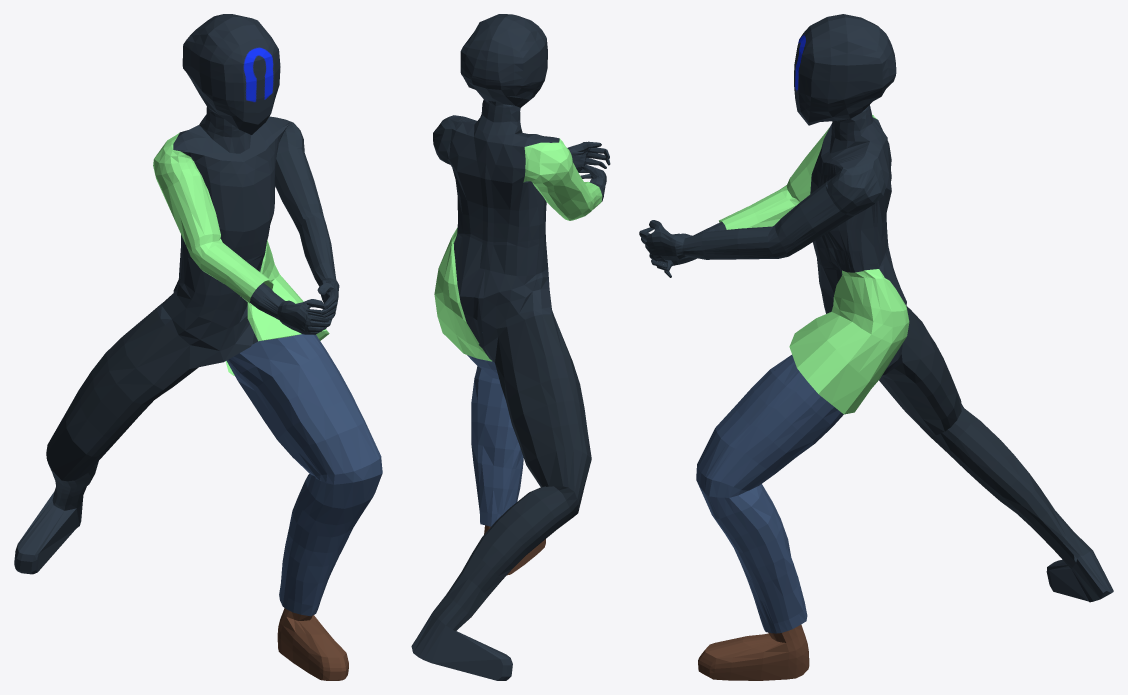
File: Mar_WB_000011.obj
The picture shows the model from 3 angles, left to right: view 1: azimuth 30°, elevation 25°; view 2: azimuth 150°, elevation 25°; view 3: azimuth 270°, elevation 25°; orthographic projection. The views are drawn at different scales.
Visible parts, largest first — view 1: Cube.000_Cube.001; view 2: Cube.000_Cube.001; view 3: Cube.000_Cube.001.
Boxes of the visible parts, x1=… form: Cube.000_Cube.001: x1=14, y1=14, x2=382, y2=680; Cube.000_Cube.001: x1=411, y1=14, x2=610, y2=680; Cube.000_Cube.001: x1=639, y1=14, x2=1113, y2=680.
Bounding box in the file's own units: 1.28 × 3.51 × 2.36.
